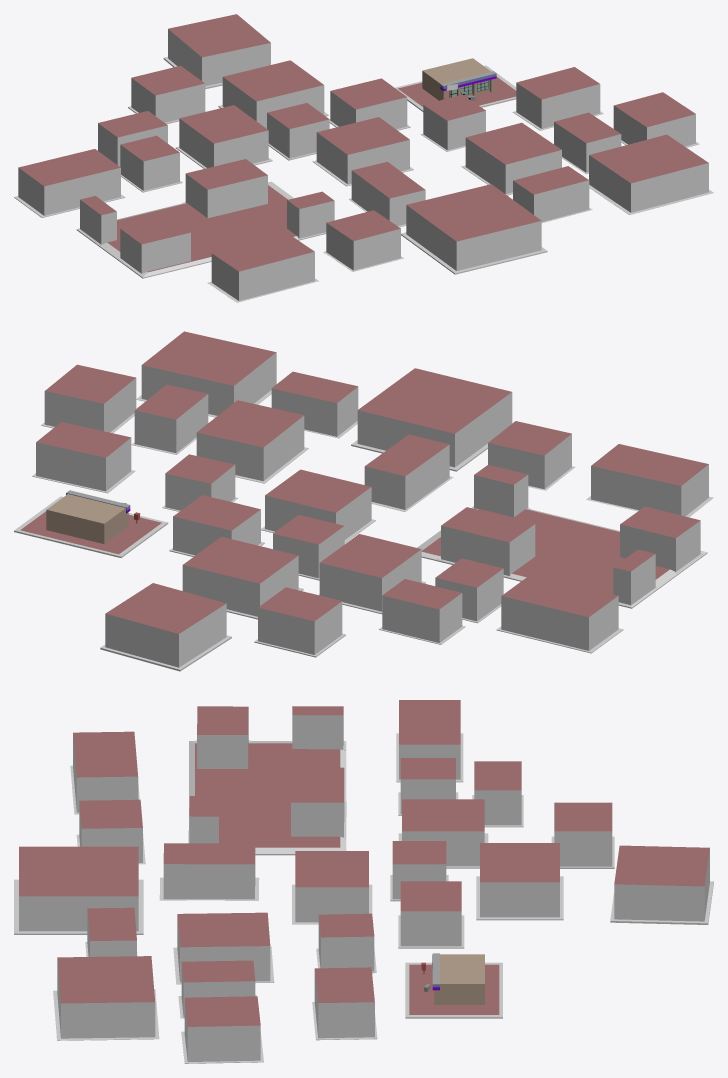
Rendered from Ciry_Test.fbx.
3 renders of one model, top to bottom at view 1: azimuth 30°, elevation 25°; view 2: azimuth 150°, elevation 25°; view 3: azimuth 270°, elevation 25°, orthographic. The views are drawn at different scales.
Visible parts, largest first — view 1: Plane.020, Plane.019, Plane.021, Plane.027, Plane.006, Plane.010, Plane.014, Plane.007, Plane.011, Plane.002, Plane.013, Plane.022 (+16 smaller); view 2: Plane.020, Plane.006, Plane.019, Plane.021, Plane.010, Plane.027, Plane.002, Plane.014, Plane.007, Plane.013, Plane.011, Plane.016 (+17 smaller); view 3: Plane.021, Plane.020, Plane.019, Plane.006, Plane.002, Plane.017, Plane.016, Plane.011, Plane.014, Plane.027, Plane.007, Plane.013 (+17 smaller).
Part boxes in pixels (x1,y1,x2,y2): Plane.020: (401,184,547,274); Plane.019: (589,134,713,214); Plane.021: (76,181,326,278); Plane.027: (207,233,318,302); Plane.006: (163,14,270,89); Plane.010: (14,149,125,217); Plane.014: (461,122,561,195); Plane.007: (175,105,272,168); Plane.011: (312,117,413,186); Plane.002: (218,60,328,128); Plane.013: (513,67,603,130); Plane.022: (182,159,267,218); Plane.020: (351,368,512,471); Plane.006: (100,583,231,671); Plane.019: (136,331,276,417); Plane.021: (417,506,707,608); Plane.010: (496,574,623,653); Plane.027: (586,444,713,517); Plane.002: (182,536,303,619); Plane.014: (196,400,308,483); Plane.007: (318,534,425,614); Plane.013: (32,422,135,493); Plane.011: (261,469,375,543); Plane.016: (41,364,136,433); Plane.021: (189,741,346,855); Plane.020: (14,846,143,934); Plane.019: (53,956,159,1040); Plane.006: (610,845,713,924); Plane.002: (476,843,563,920); Plane.017: (159,843,259,900); Plane.016: (181,996,263,1063); Plane.011: (292,851,372,924); Plane.014: (173,912,274,984); Plane.027: (70,731,139,814); Plane.007: (398,799,488,868); Plane.013: (312,967,377,1040).
Size of the model in its own units: 610 by 11395 by 10211.
